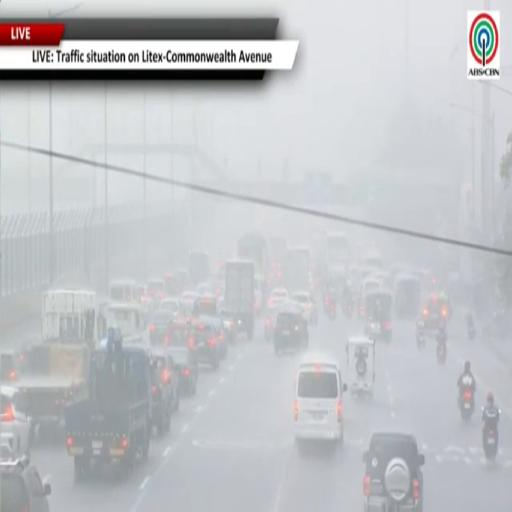car: (363, 432, 424, 511), (295, 355, 347, 446), (0, 457, 51, 511), (151, 349, 179, 435), (0, 386, 31, 455), (274, 302, 308, 355), (169, 347, 198, 395), (197, 316, 228, 359), (192, 323, 220, 370), (421, 294, 448, 334), (292, 292, 318, 325), (150, 311, 173, 345), (218, 300, 236, 343), (167, 322, 194, 349), (192, 295, 217, 317), (180, 291, 199, 319), (264, 307, 279, 341), (147, 279, 165, 305), (268, 287, 288, 308), (159, 298, 179, 316), (196, 282, 213, 296)
motorcycle: (483, 416, 498, 460), (483, 426, 498, 460), (460, 389, 474, 421), (417, 320, 425, 349), (436, 341, 446, 364), (342, 299, 354, 318), (328, 301, 336, 320), (417, 331, 425, 348), (468, 326, 476, 341)
truck: (65, 330, 154, 482), (12, 290, 97, 442), (12, 344, 91, 443), (42, 290, 98, 344), (223, 261, 254, 340), (237, 232, 268, 279), (284, 248, 309, 294), (267, 237, 287, 289), (325, 232, 350, 268), (188, 251, 209, 285)
